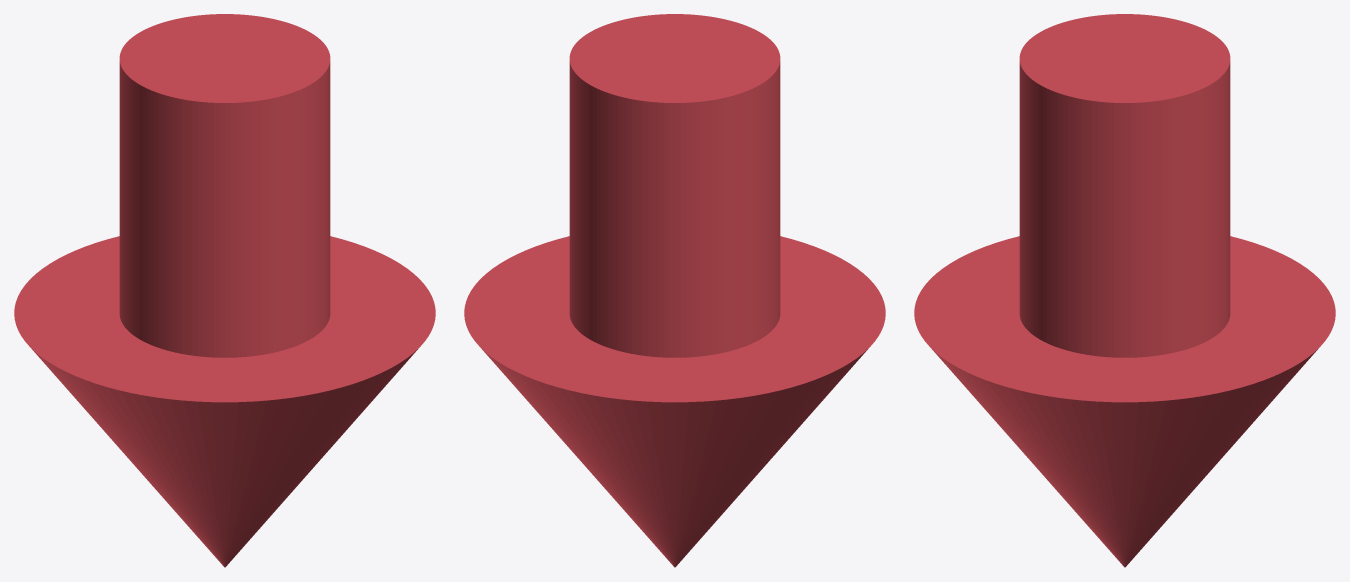
The model's file is fleche.gltf.
3 renders of one model, left to right at view 1: azimuth 30°, elevation 25°; view 2: azimuth 150°, elevation 25°; view 3: azimuth 270°, elevation 25°, orthographic.
Bounding box in the file's own units: 0.06 × 0.08 × 0.06.
